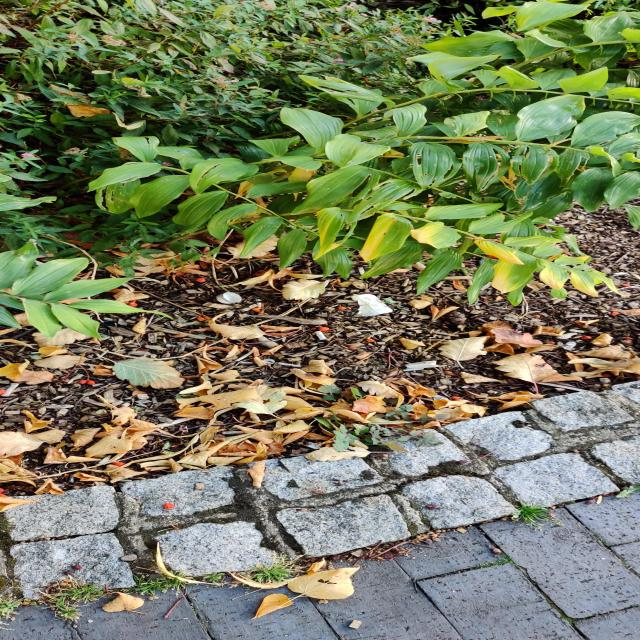litter: (204, 289, 261, 307)
